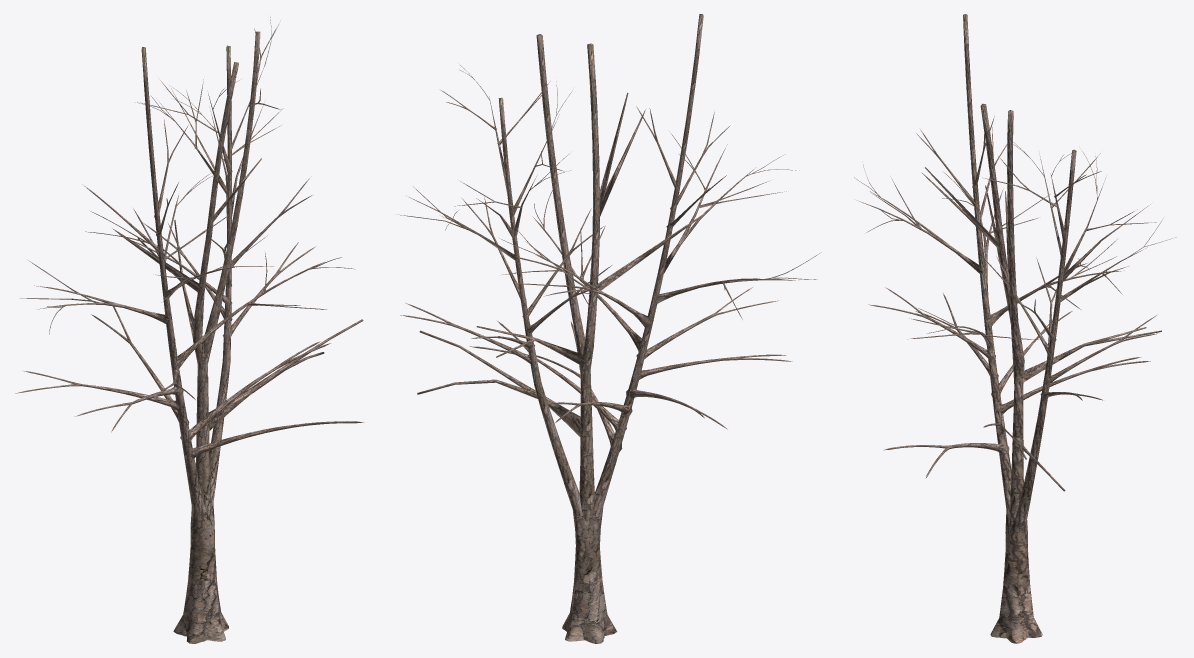
File: TreeA.glb
The picture shows the model from 3 angles, left to right: view 1: azimuth 30°, elevation 25°; view 2: azimuth 150°, elevation 25°; view 3: azimuth 270°, elevation 25°; orthographic projection. The views are drawn at different scales.
Parts seen in each view (by area): view 1: polySurface47, polySurface48, polySurface49, polySurface50, polySurface43, polySurface30, polySurface29, polySurface32, polySurface1, polySurface3, polySurface31; view 2: polySurface47, polySurface49, polySurface48, polySurface50, polySurface43, polySurface46, polySurface33, polySurface44, polySurface45, polySurface30, polySurface2; view 3: polySurface47, polySurface49, polySurface48, polySurface50, polySurface44, polySurface31, polySurface29, polySurface4, polySurface46, polySurface6, polySurface34, polySurface2 (+1 smaller).
Boxes of the visible parts, x1=… form: polySurface47: x1=173, y1=45, x2=231, y2=643; polySurface48: x1=141, y1=47, x2=212, y2=550; polySurface49: x1=181, y1=31, x2=260, y2=641; polySurface50: x1=193, y1=62, x2=238, y2=366; polySurface43: x1=208, y1=319, x2=363, y2=431; polySurface30: x1=180, y1=341, x2=330, y2=445; polySurface29: x1=184, y1=421, x2=364, y2=461; polySurface32: x1=15, y1=370, x2=184, y2=411; polySurface1: x1=177, y1=261, x2=325, y2=368; polySurface3: x1=34, y1=285, x2=169, y2=324; polySurface31: x1=91, y1=306, x2=189, y2=426; polySurface47: x1=498, y1=97, x2=617, y2=643; polySurface49: x1=536, y1=34, x2=604, y2=640; polySurface48: x1=587, y1=14, x2=703, y2=551; polySurface50: x1=581, y1=43, x2=599, y2=371; polySurface43: x1=417, y1=330, x2=582, y2=436; polySurface46: x1=600, y1=92, x2=645, y2=216; polySurface33: x1=633, y1=354, x2=792, y2=379; polySurface44: x1=476, y1=326, x2=588, y2=365; polySurface45: x1=594, y1=214, x2=703, y2=295; polySurface30: x1=469, y1=321, x2=626, y2=434; polySurface2: x1=536, y1=255, x2=651, y2=328; polySurface47: x1=990, y1=149, x2=1076, y2=643; polySurface49: x1=1000, y1=110, x2=1026, y2=639; polySurface48: x1=963, y1=14, x2=1011, y2=552; polySurface50: x1=980, y1=103, x2=1024, y2=386; polySurface44: x1=1022, y1=327, x2=1161, y2=382; polySurface31: x1=994, y1=357, x2=1150, y2=416; polySurface29: x1=883, y1=443, x2=1009, y2=478; polySurface4: x1=857, y1=191, x2=982, y2=274; polySurface46: x1=921, y1=167, x2=1001, y2=248; polySurface6: x1=1062, y1=178, x2=1150, y2=281; polySurface34: x1=868, y1=287, x2=995, y2=359; polySurface2: x1=986, y1=263, x2=1124, y2=326.
Bounding box in the file's own units: 1.62 × 2.67 × 1.37.
Materials: 1 (1 with a texture image).
